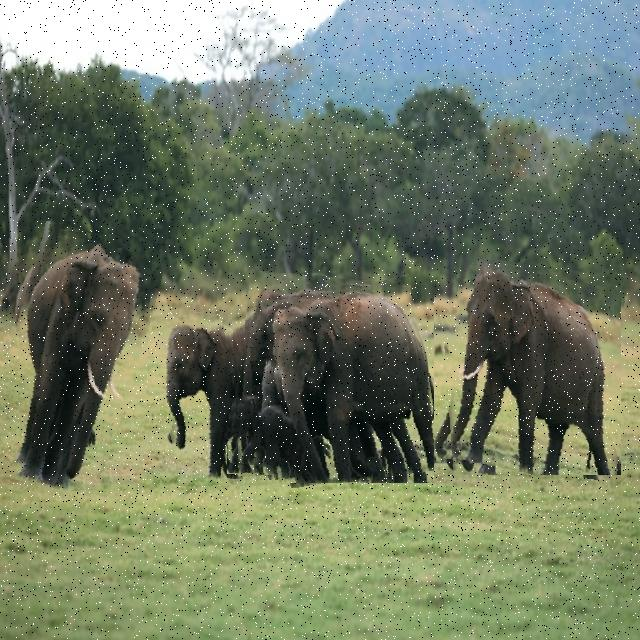elephant: (0, 226, 153, 491), (438, 261, 621, 475), (265, 282, 434, 483), (230, 273, 371, 476), (160, 310, 248, 486), (251, 347, 368, 475), (227, 398, 310, 474)
